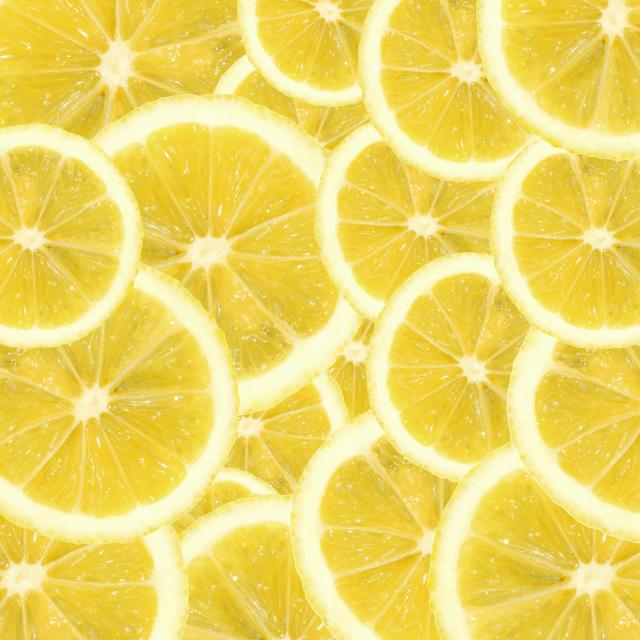lemon: (320, 320, 640, 640)
